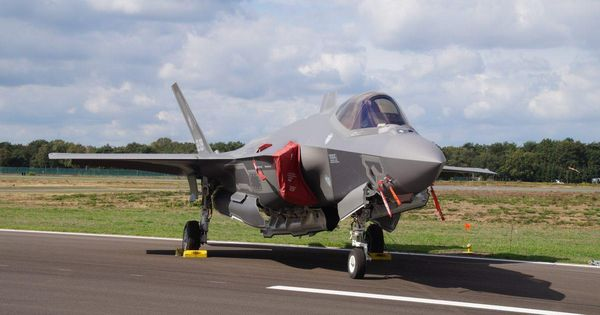F-35 Lightning: (43, 58, 526, 274)
